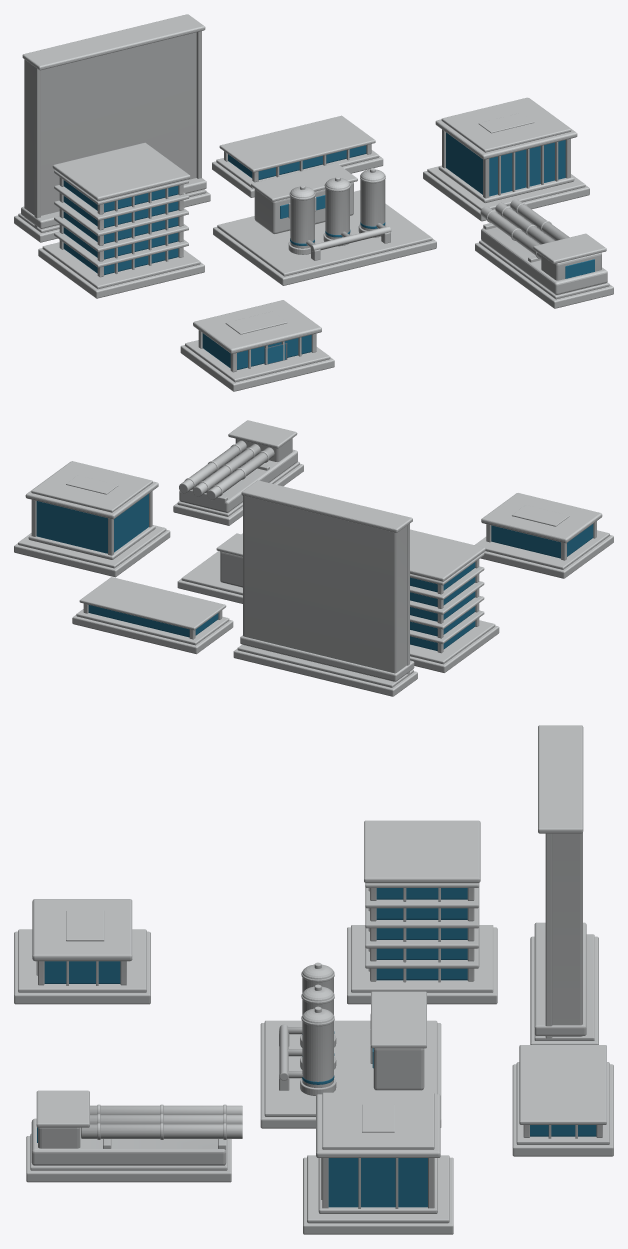
File: campus-integrated.glb
The picture shows the model from 3 angles, top to bottom: view 1: azimuth 30°, elevation 25°; view 2: azimuth 150°, elevation 25°; view 3: azimuth 270°, elevation 25°; orthographic projection. The views are drawn at different scales.
Visible parts, largest first — view 1: table_Campus_porcelain, price_Campus_porcelain, knowledge_Campus_porcelain, report_Campus_porcelain, risk_Campus_porcelain, import_Campus_porcelain, review_Campus_porcelain, knowledge_Campus_blue_glazing, report_Campus_blue_glazing, import_Campus_blue_glazing, review_Campus_blue_glazing; view 2: table_Campus_porcelain, report_Campus_porcelain, knowledge_Campus_porcelain, risk_Campus_porcelain, review_Campus_porcelain, import_Campus_porcelain, report_Campus_blue_glazing, price_Campus_porcelain, knowledge_Campus_blue_glazing, import_Campus_blue_glazing, review_Campus_blue_glazing; view 3: knowledge_Campus_porcelain, price_Campus_porcelain, risk_Campus_porcelain, table_Campus_porcelain, report_Campus_porcelain, import_Campus_porcelain, review_Campus_porcelain, knowledge_Campus_blue_glazing, report_Campus_blue_glazing, import_Campus_blue_glazing, review_Campus_blue_glazing.
Part boxes in pixels (<box>): table_Campus_porcelain: <box>14,14,210,242</box>; price_Campus_porcelain: <box>213,163,436,285</box>; knowledge_Campus_porcelain: <box>38,142,204,298</box>; report_Campus_porcelain: <box>423,97,589,221</box>; risk_Campus_porcelain: <box>475,199,613,308</box>; import_Campus_porcelain: <box>180,300,334,391</box>; review_Campus_porcelain: <box>212,115,383,197</box>; knowledge_Campus_blue_glazing: <box>63,180,178,275</box>; report_Campus_blue_glazing: <box>446,132,565,196</box>; import_Campus_blue_glazing: <box>202,333,311,369</box>; review_Campus_blue_glazing: <box>228,145,366,179</box>; table_Campus_porcelain: <box>233,480,417,696</box>; report_Campus_porcelain: <box>14,461,170,577</box>; knowledge_Campus_porcelain: <box>410,529,499,672</box>; risk_Campus_porcelain: <box>173,420,303,525</box>; review_Campus_porcelain: <box>72,577,233,654</box>; import_Campus_porcelain: <box>474,493,613,578</box>; report_Campus_blue_glazing: <box>36,494,148,553</box>; price_Campus_porcelain: <box>177,533,242,603</box>; knowledge_Campus_blue_glazing: <box>410,562,475,650</box>; import_Campus_blue_glazing: <box>491,524,593,558</box>; review_Campus_blue_glazing: <box>88,605,218,637</box>; knowledge_Campus_porcelain: <box>347,820,497,1004</box>; price_Campus_porcelain: <box>260,962,441,1128</box>; risk_Campus_porcelain: <box>26,1090,242,1182</box>; table_Campus_porcelain: <box>530,725,598,1044</box>; report_Campus_porcelain: <box>303,1092,453,1234</box>; import_Campus_porcelain: <box>14,899,150,1004</box>; review_Campus_porcelain: <box>512,1045,613,1156</box>; knowledge_Campus_blue_glazing: <box>376,888,467,980</box>; report_Campus_blue_glazing: <box>328,1158,427,1207</box>; import_Campus_blue_glazing: <box>44,961,120,983</box>; review_Campus_blue_glazing: <box>530,1125,596,1136</box>.
Bounding box in the file's own units: 25.8 × 8.98 × 21.9.
